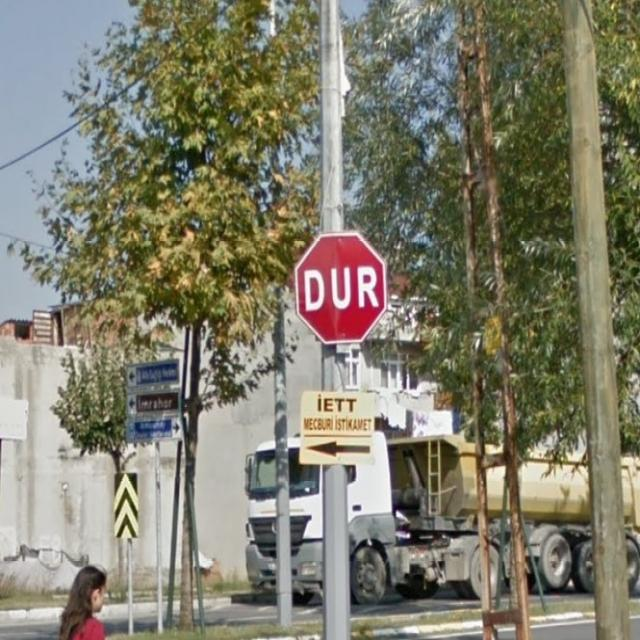dur: (296, 233, 386, 343)
